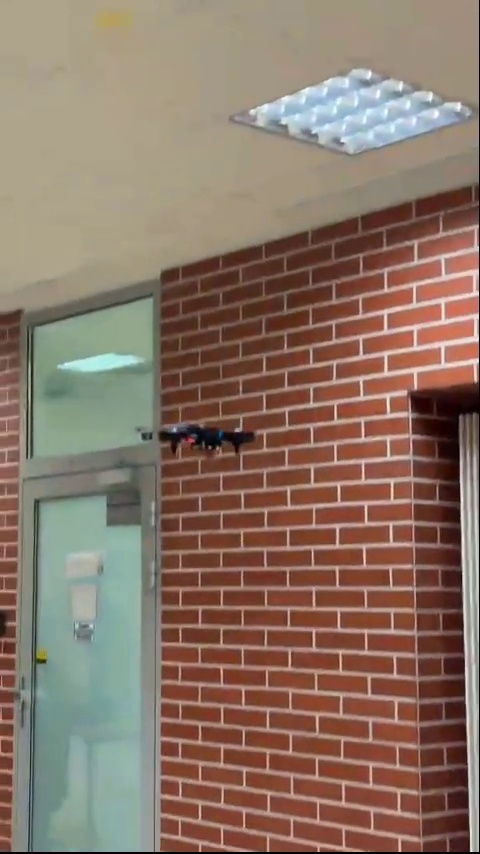drone: (158, 422, 257, 458)
